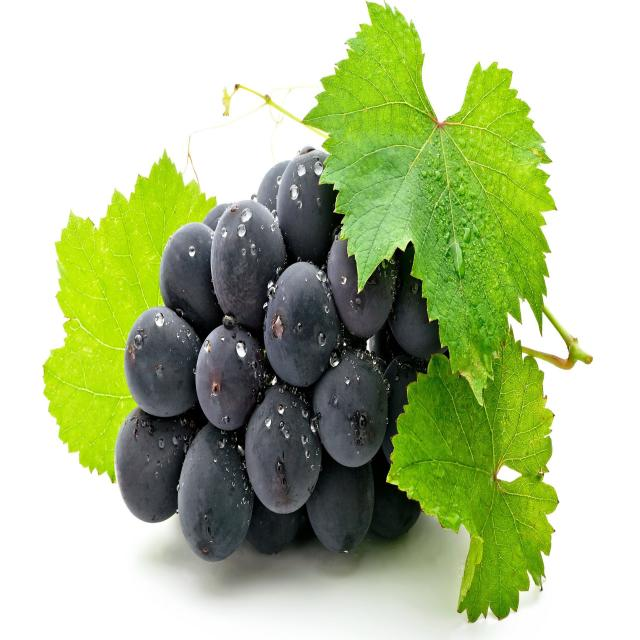grape: (311, 344, 407, 483), (250, 385, 330, 523), (264, 268, 349, 396), (104, 419, 197, 532), (180, 425, 254, 550), (212, 198, 283, 327), (194, 319, 275, 431), (302, 464, 383, 567), (329, 225, 402, 334), (125, 414, 199, 521), (125, 309, 203, 409), (285, 151, 344, 265), (373, 437, 428, 548), (246, 476, 316, 560), (168, 214, 218, 322), (391, 277, 442, 380), (263, 153, 297, 217)
